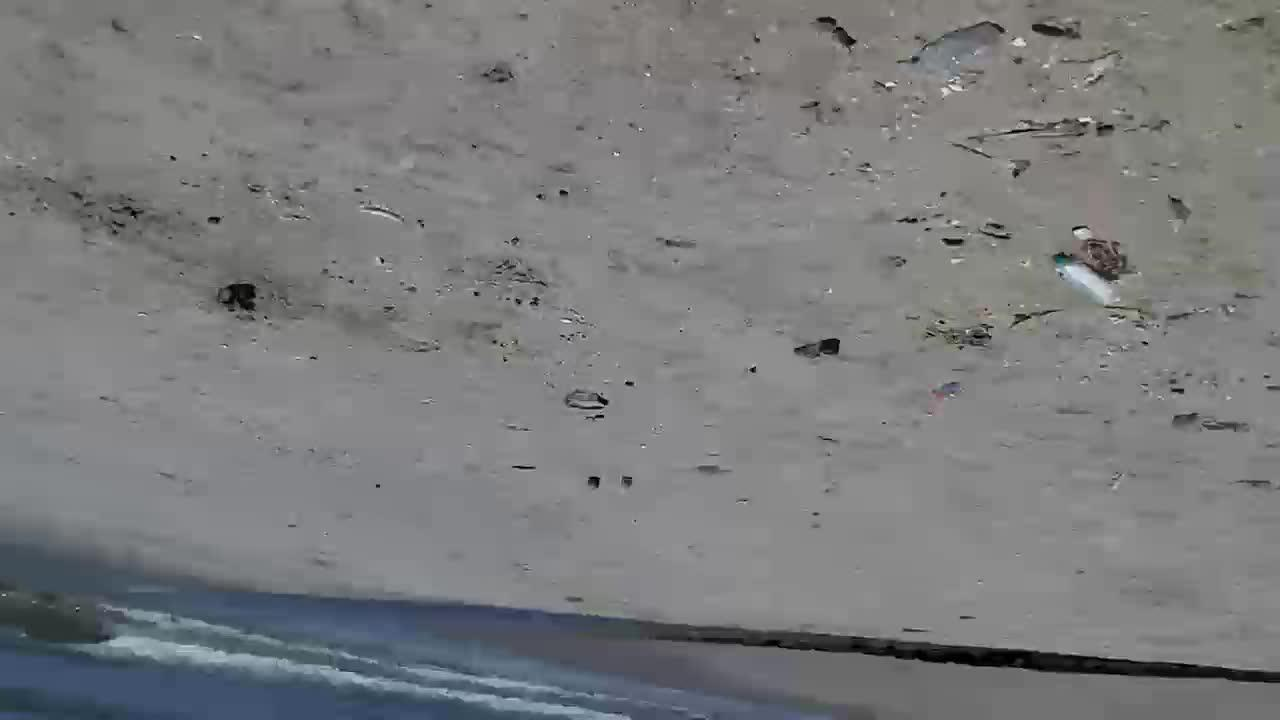obj: (920, 23, 1002, 70), (1055, 250, 1109, 308), (211, 286, 266, 328), (794, 332, 845, 362), (1166, 416, 1248, 432), (815, 16, 849, 49)
sand/background: (4, 534, 884, 719)
